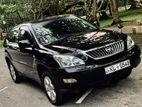car: (3, 14, 141, 106)
